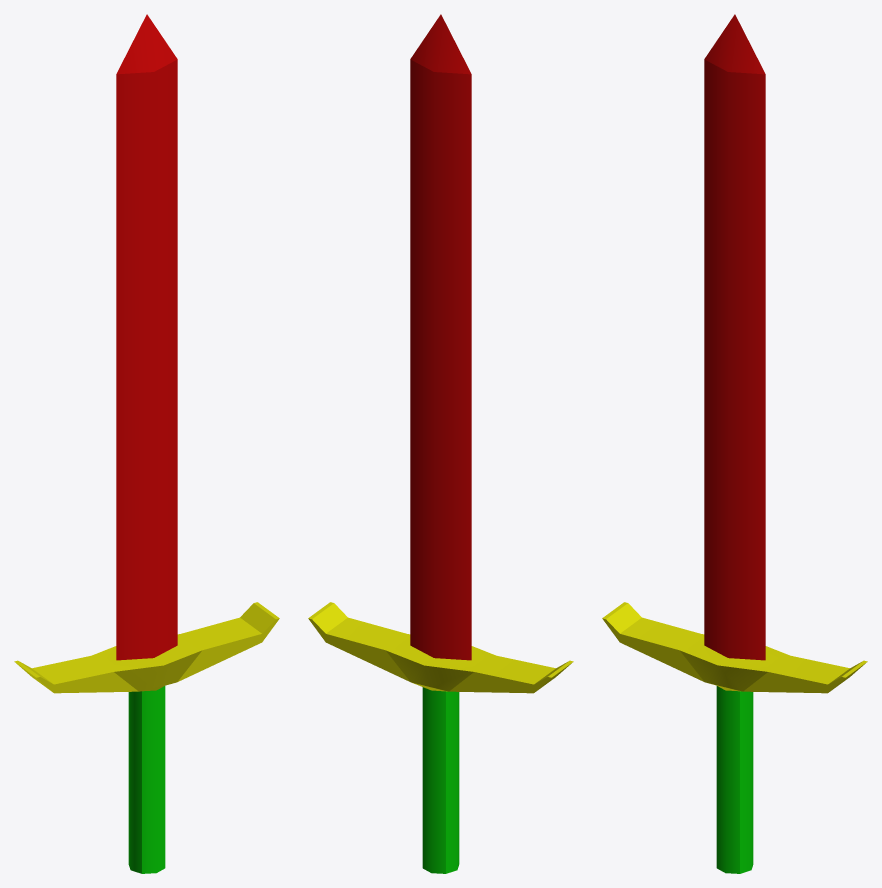
File: Sword.fbx
3 views of the same model, side by side, from view 1: azimuth 30°, elevation 25°; view 2: azimuth 150°, elevation 25°; view 3: azimuth 330°, elevation 25° (orthographic).
Parts seen in each view (by area): view 1: Sword; view 2: Sword; view 3: Sword.
Boxes of the visible parts, x1,y1,x2,y2 form: Sword: (14,14,279,873); Sword: (308,14,573,873); Sword: (602,14,867,873).
Bounding box in the file's own units: 1.2 × 4 × 0.2898.
